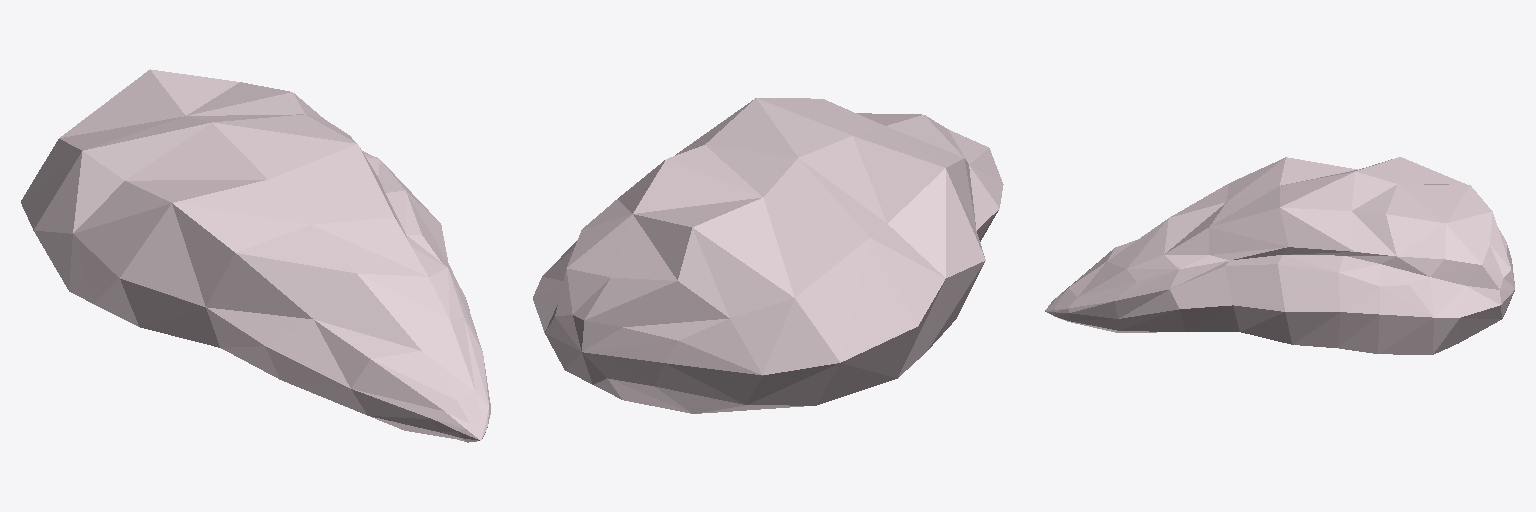
robot.urdf — cooking_pot:
<robot name="cooking_pot">
    <link name="body">
       	<visual>
       	    <material name="pink meat">
        		<color rgba="0.88 0.82 0.84 1.0" />
      		</material>
			<geometry>
				<mesh filename="chicken.dae" scale="0.06 0.06 0.06" />
			</geometry>
			<origin rpy="1.57 0 0" xyz="0 0 0.015" />
	    </visual>
       	<collision>
			<geometry>
				<mesh filename="chicken.dae" scale="0.06 0.06 0.06" />
			</geometry>
			<origin rpy="1.57 0 0" xyz="0 0 0.015" />
	    </collision>
	    <inertial>
			<mass value="10" />
			<inertia ixx="1.0" ixy="0.0" ixz="0.0" iyy="1.0" iyz="0.0" izz="1.0" />
	    </inertial>
    </link>
</robot>

--- Facts derived from the render (not from the file) ---
3 views of the same robot in one strip: view 1: azimuth 30°, elevation 25°; view 2: azimuth 150°, elevation 25°; view 3: azimuth 270°, elevation 25° (orthographic).
Model cooking_pot with 1 links and 0 joints (none), rooted at body, posed every joint at zero.
Visible links, largest first — view 1: body; view 2: body; view 3: body.
Link boxes in pixels (left/top/right/bottom): body: left=21, top=69, right=490, bottom=442; body: left=533, top=98, right=1003, bottom=413; body: left=1045, top=157, right=1514, bottom=354.
Size in the robot's own frame: 0.0007 by 0.0012 by 0.0004 metres.
Meshes: 1 distinct files referenced, 1 mesh visuals loaded (1 Collada DAE).